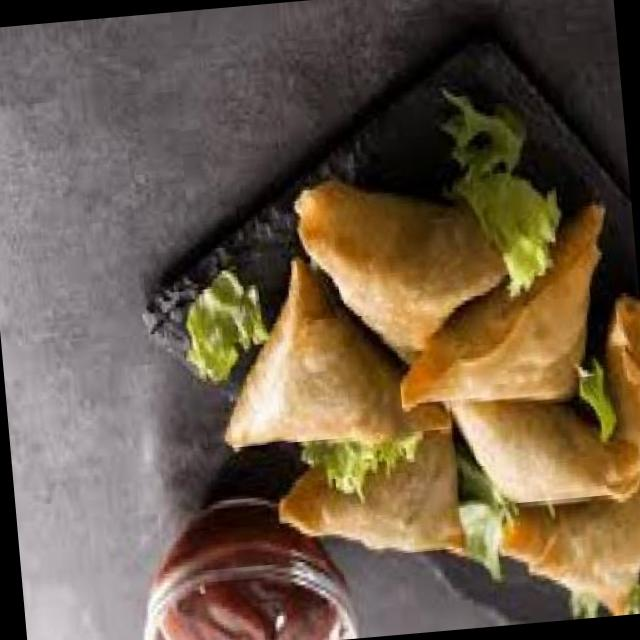samosa: (290, 157, 558, 372), (210, 244, 449, 452), (386, 204, 620, 413), (272, 426, 468, 569), (446, 385, 640, 515), (494, 478, 640, 625), (591, 298, 640, 480)
